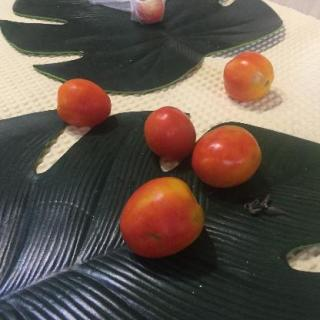Tomat: (113, 176, 211, 263), (184, 114, 266, 190), (56, 74, 114, 138), (141, 104, 199, 165), (220, 48, 276, 109)
